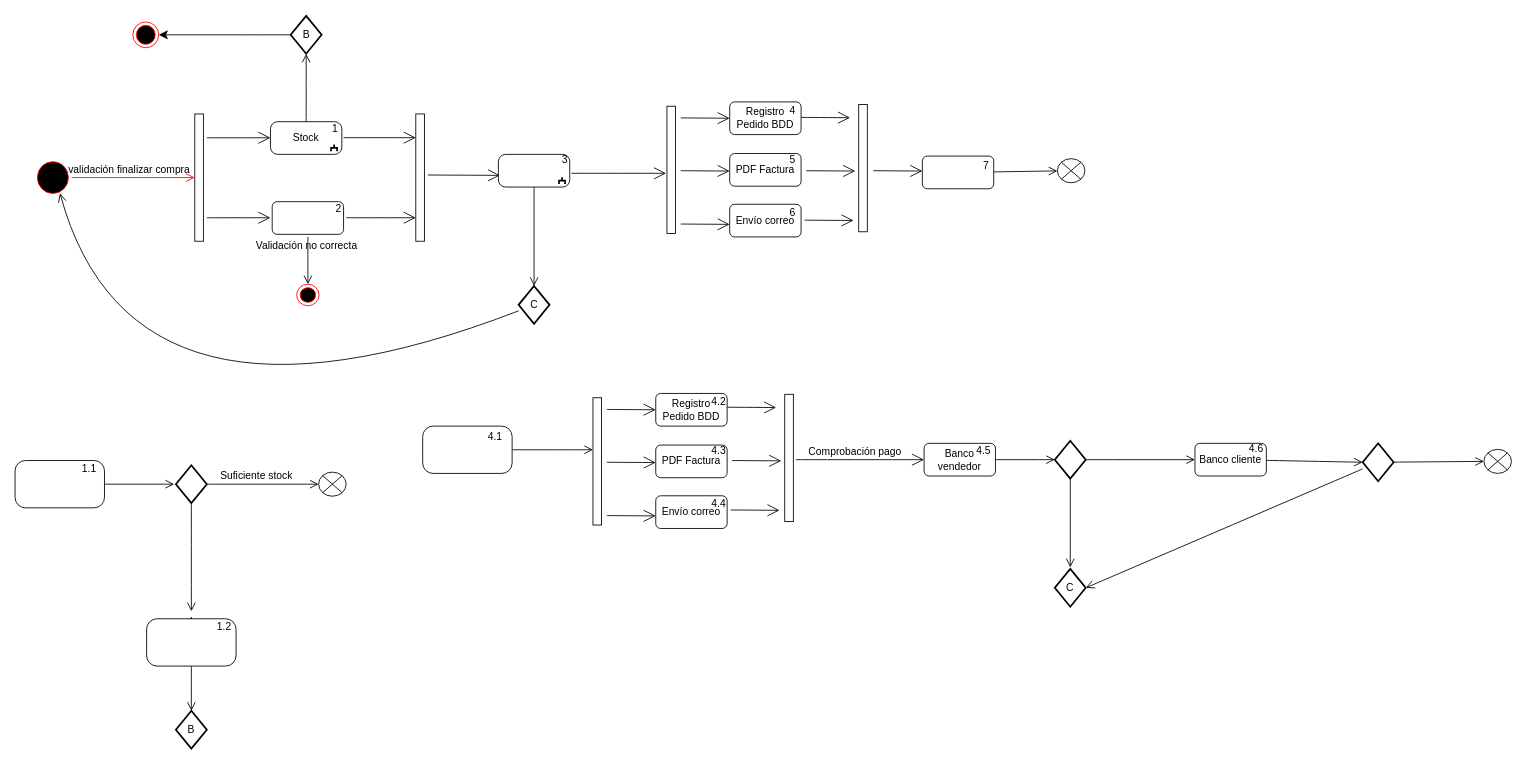
Some shapes in this 1527 by 764 pixel diagram are drawn without their labels. The shapes that lost their labels are listed below. From the top down, each one's box as (x1, y1, x2, y2) in pixels, then its label:
(498, 154, 570, 187): Pasarela pago
(921, 155, 994, 189): Mensaje confirmación
(271, 201, 344, 234): Validez sesión
(422, 425, 512, 473): Formas de pago
(14, 460, 104, 508): Comprobar stock
(146, 618, 236, 666): Mensaje cliente Stock disponible
